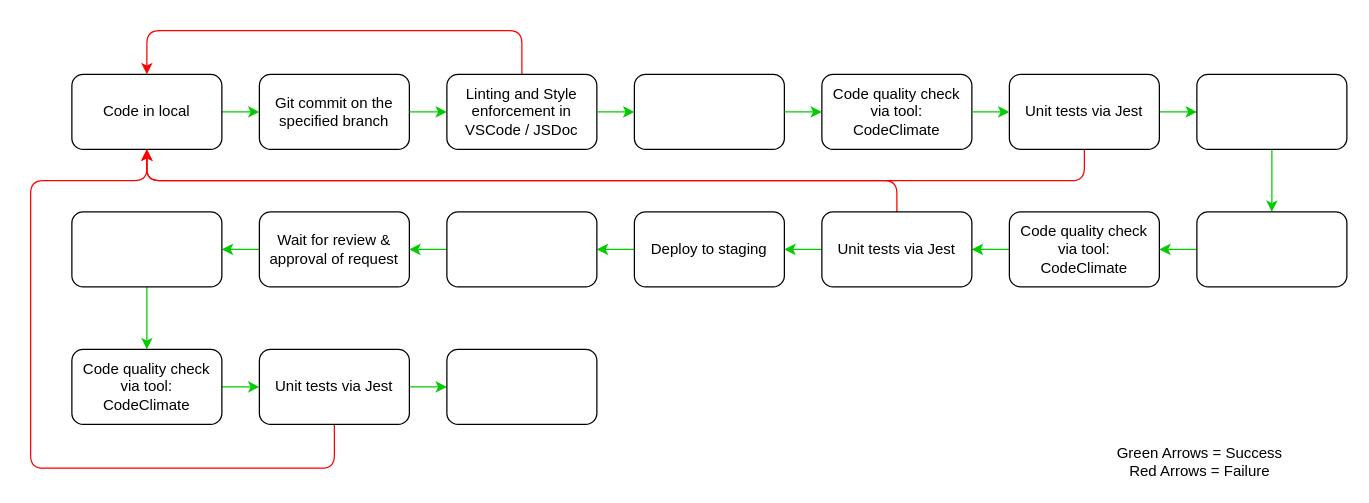
Some shapes in this 1369 by 503 pixel diagram are drawn without their labels. Here are the shapes that lost their labels. From the top down, the box of each, then its label:
(633, 73, 784, 149): Git push
(1196, 73, 1347, 149): Code quality check via human review: Pull Requests
(71, 211, 222, 287): Merge with production
(446, 211, 597, 287): Create pull request for production
(1196, 211, 1347, 287): Merging with staging
(446, 348, 597, 424): Deploy to production
